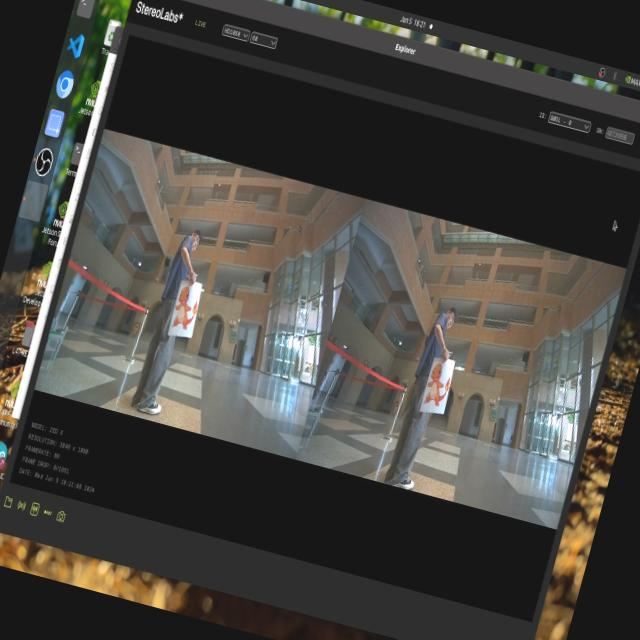red: (418, 356, 457, 415), (168, 282, 206, 342)
